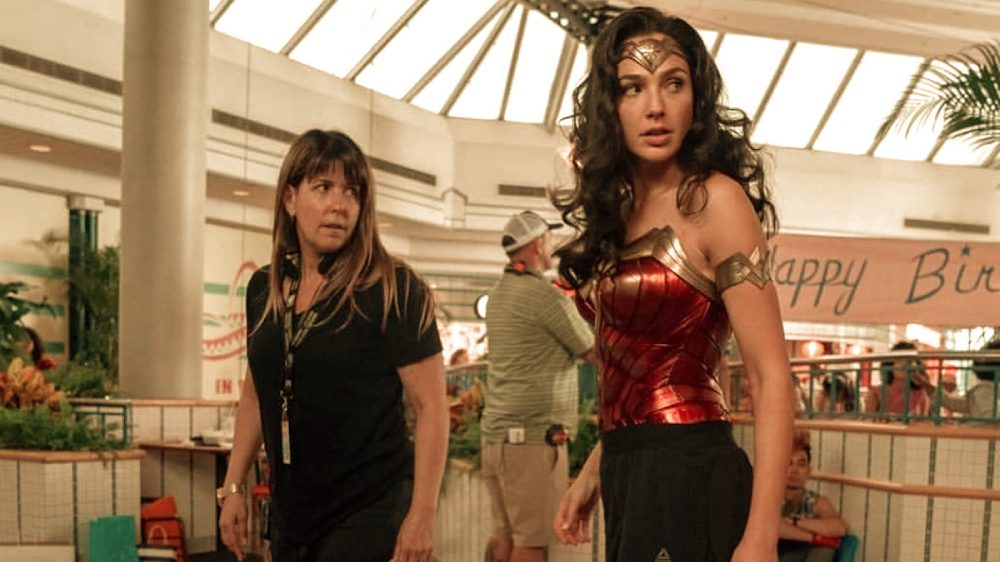Without Helmet: (583, 6, 717, 189), (274, 123, 387, 289)
